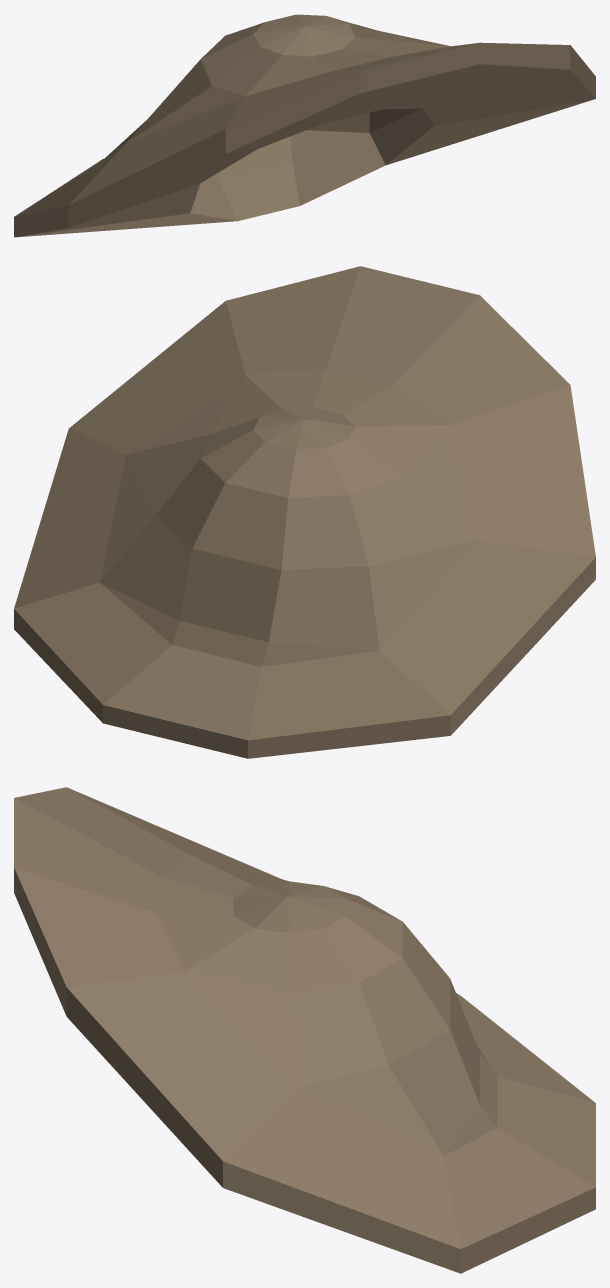
The model's file is Hat.fbx.
3 renders of one model, top to bottom at view 1: azimuth 30°, elevation 25°; view 2: azimuth 150°, elevation 25°; view 3: azimuth 270°, elevation 25°, orthographic. The views are drawn at different scales.
Visible parts, largest first — view 1: Hat_Mesh; view 2: Hat_Mesh; view 3: Hat_Mesh.
Boxes of the visible parts, x1,y1,x2,y2 form: Hat_Mesh: (14,14,595,237); Hat_Mesh: (14,266,595,758); Hat_Mesh: (14,787,595,1273).
Size of the model in its own units: 3.23 by 1.65 by 2.6.
